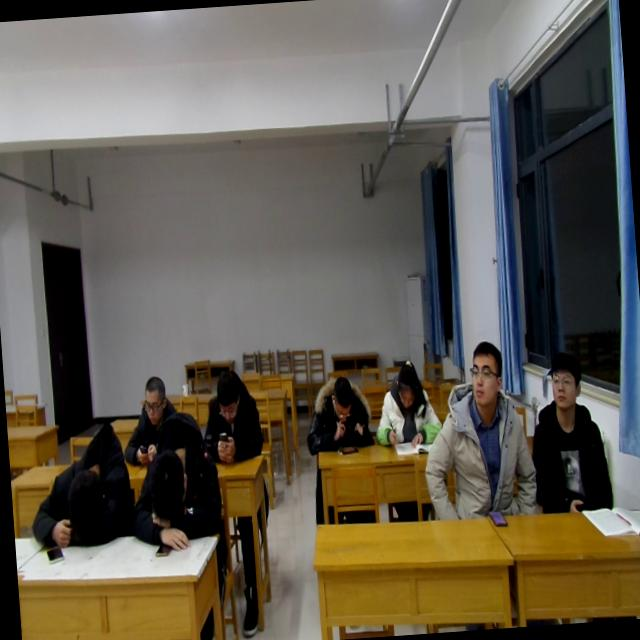bow: (123, 417, 226, 558), (25, 424, 136, 545)
down: (212, 364, 244, 424), (324, 372, 356, 427), (391, 355, 424, 408), (136, 372, 166, 428)
lookup: (466, 331, 506, 406), (544, 345, 586, 412)
sit: (416, 338, 540, 526), (530, 346, 614, 510), (370, 350, 443, 450), (199, 363, 264, 465), (116, 367, 183, 464), (304, 371, 376, 455)
